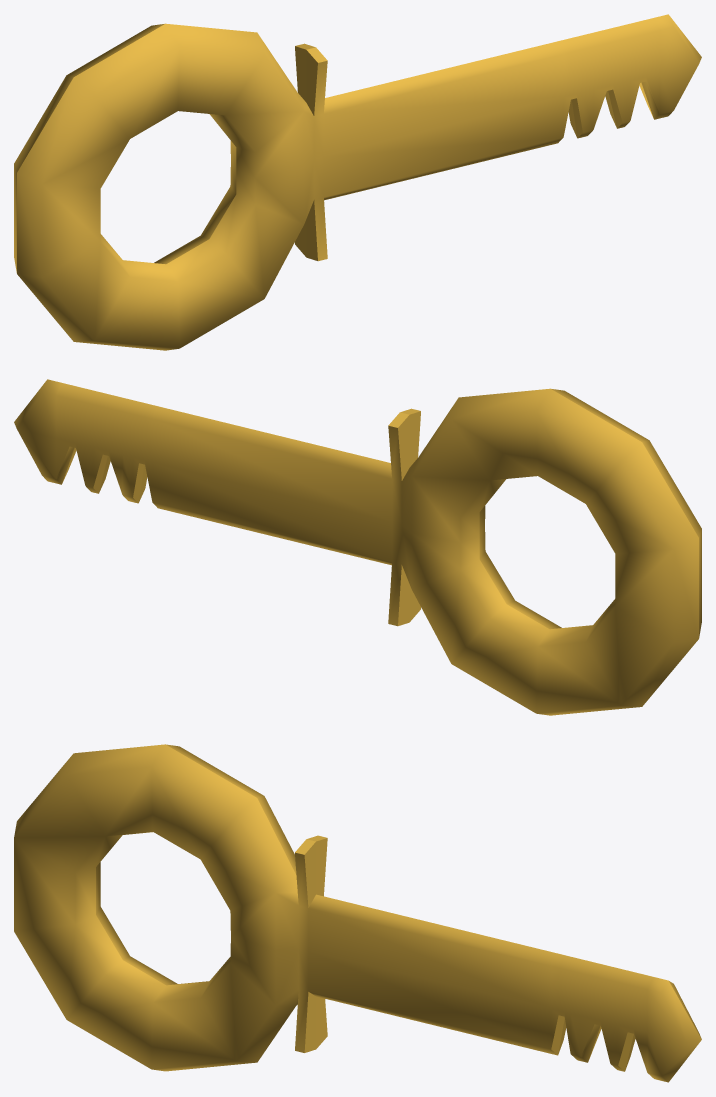
The model's file is key.fbx.
3 renders of one model, top to bottom at view 1: azimuth 30°, elevation 25°; view 2: azimuth 150°, elevation 25°; view 3: azimuth 330°, elevation 25°, orthographic.
Visible parts, largest first — view 1: key; view 2: key; view 3: key.
Part boxes in pixels (bbox=[...]): key: bbox=[14, 14, 701, 350]; key: bbox=[14, 379, 701, 715]; key: bbox=[14, 744, 701, 1082].
Size of the model in its own units: 548 by 250 by 39.09.
